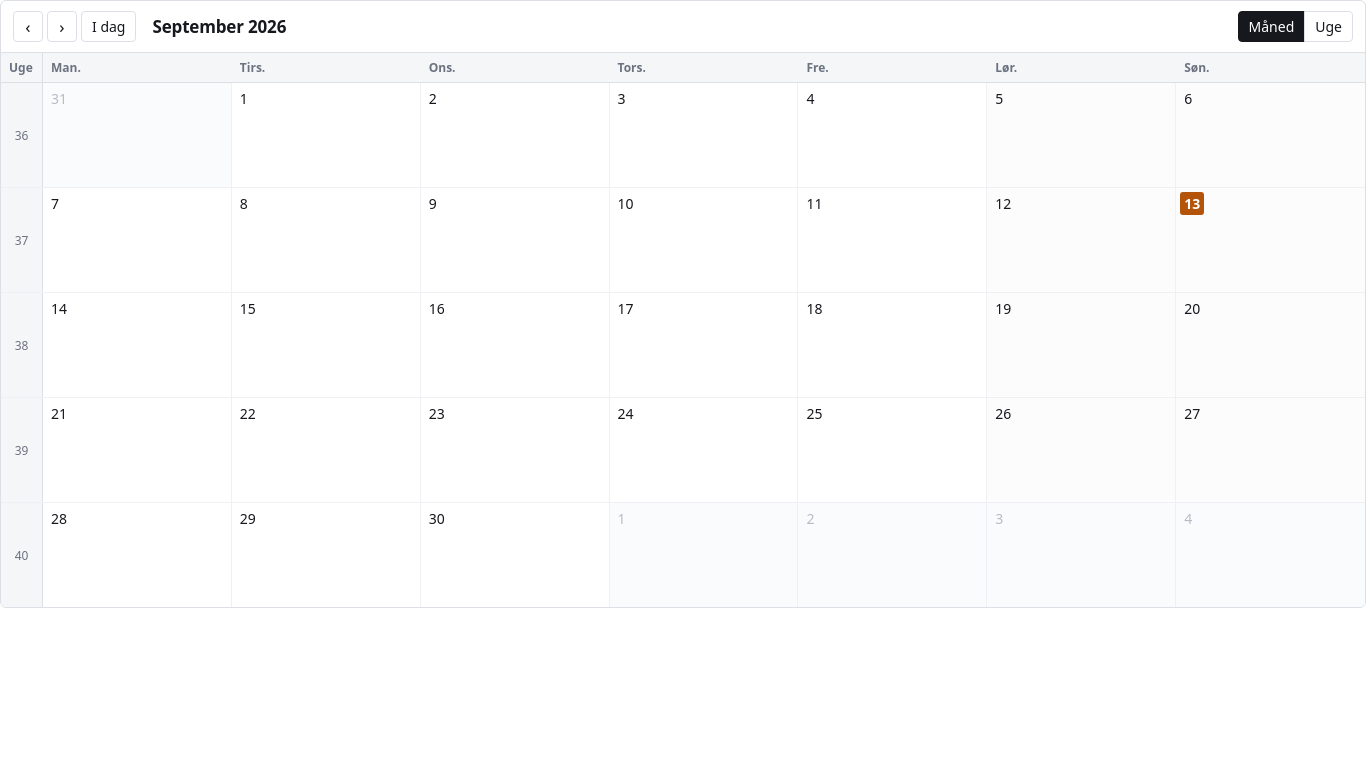
Test: CalendarPage › opens the booking dialog on an empty-slot click and adds the booking to the calendar on success, without a page reload
Double-click the 1st element showing "1" at (326, 135), box left=232, top=83, right=421, bottom=187
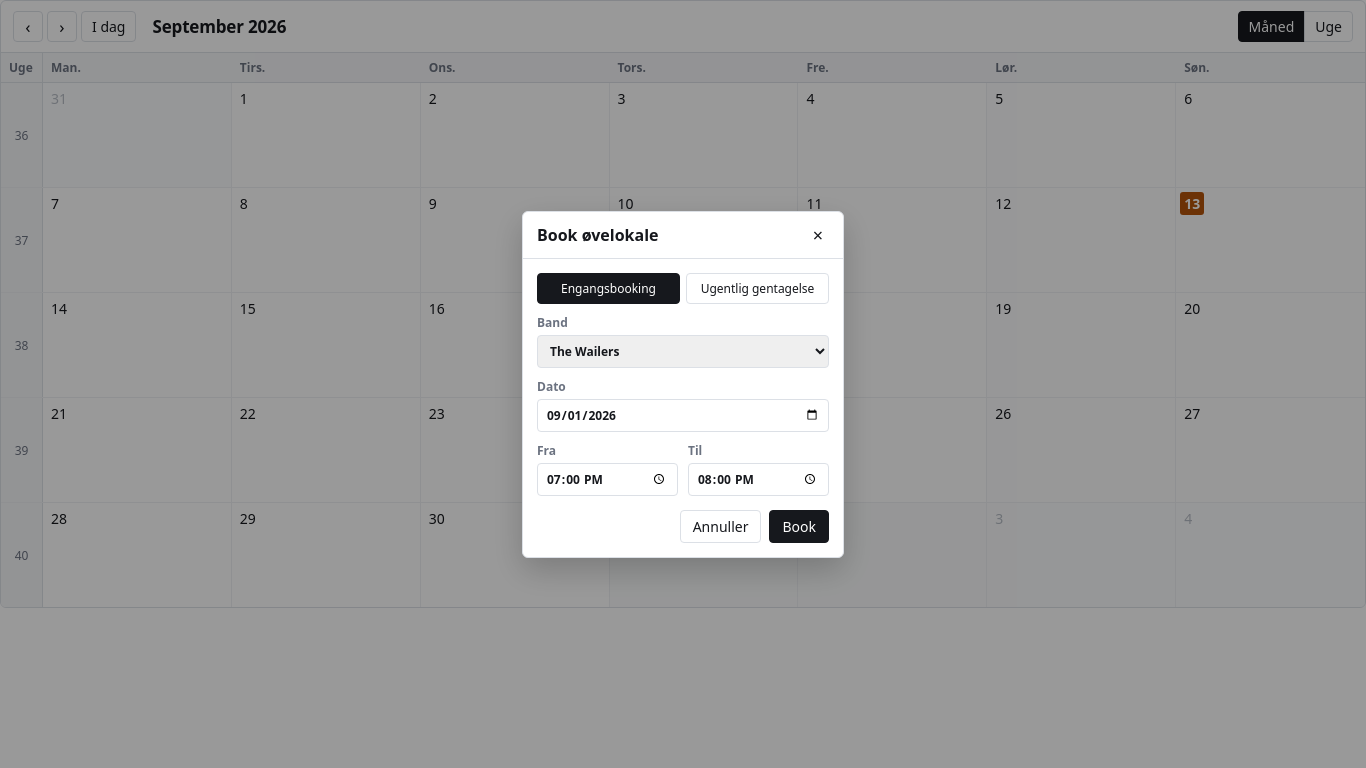
Check: the dialog is shown, box left=522, top=210, right=844, bottom=558
Submit the form, box left=523, top=258, right=843, bottom=556
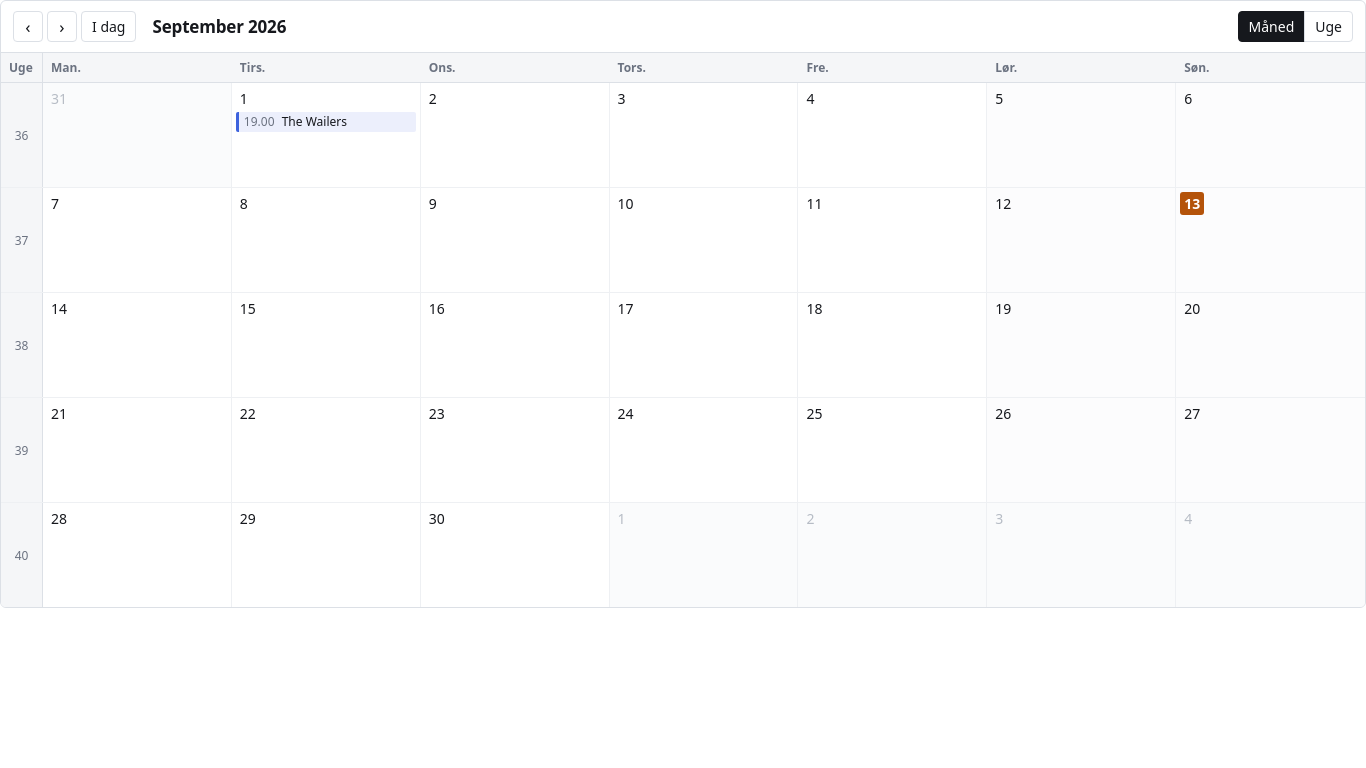
Check: the text "The Wailers" is shown, box left=236, top=112, right=416, bottom=132
